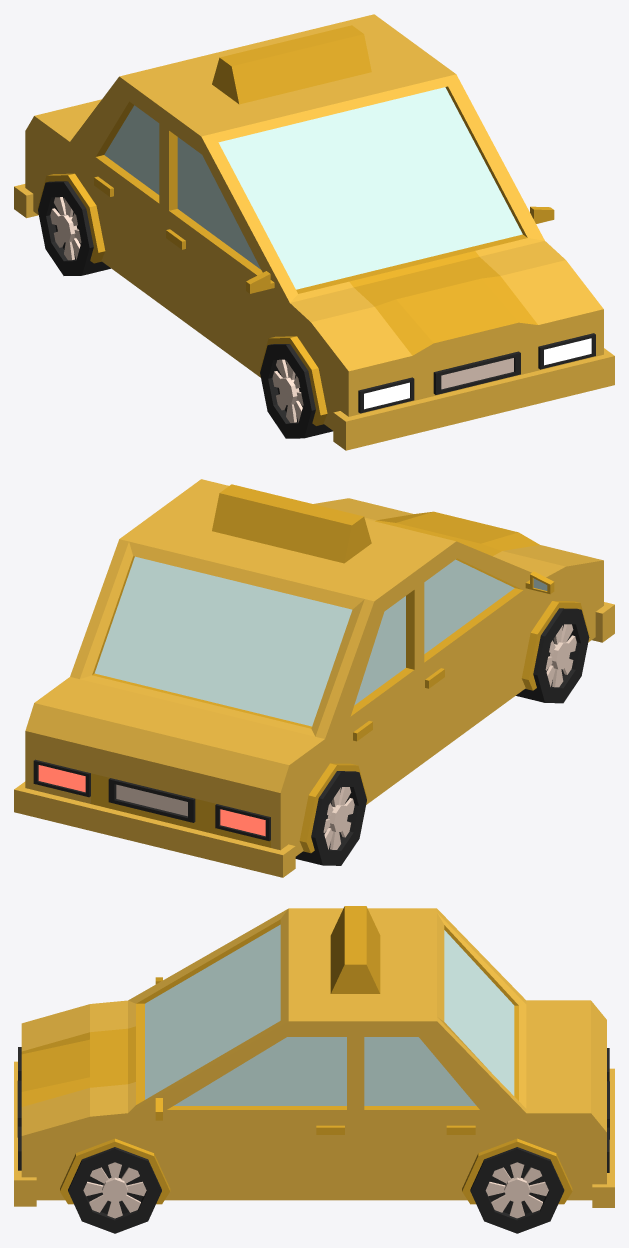
The model's file is Taxi.fbx.
3 views of the same model, one above another, from view 1: azimuth 30°, elevation 25°; view 2: azimuth 150°, elevation 25°; view 3: azimuth 270°, elevation 25° (orthographic). The views are drawn at different scales.
Visible parts, largest first — view 1: taxi; view 2: taxi; view 3: taxi.
Part boxes in pixels (x1,y1,x2,y2): taxi: (14,14,614,450); taxi: (14,479,614,877); taxi: (14,906,614,1233).
Size of the model in its own units: 251 by 206 by 474.
